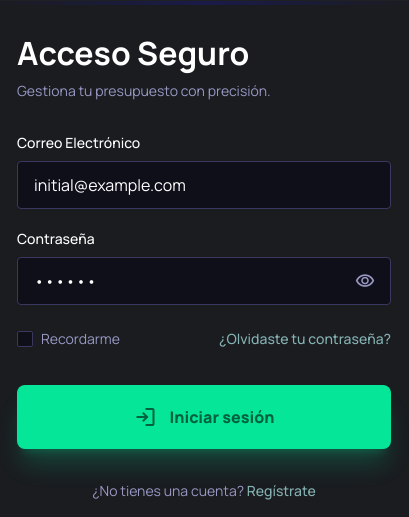
Test: LoginFormCard.vue › toggles password visibility from password button
What coordinates should you click on to do the following:
click the 1st button
I would click on:
 (365, 281)
Its box is [351,267,379,295].
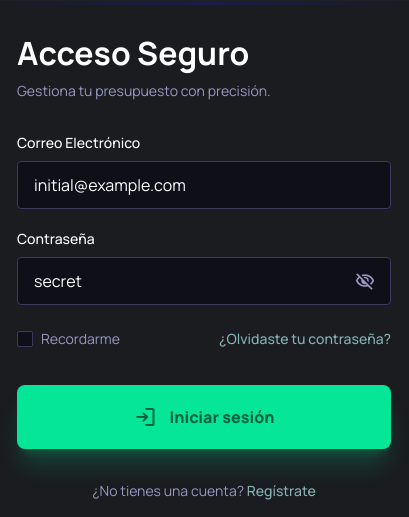
Result: the field labelled "Contraseña" shows its text at [17,257,391,305]
What coordinates should you click on to do the following:
click the 1st button
I would click on:
 (365, 281)
Its box is [351,267,379,295].
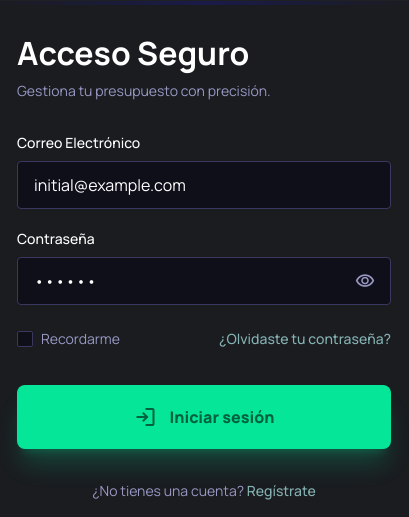
Result: the password field labelled "Contraseña" hides its text at [17,257,391,305]
